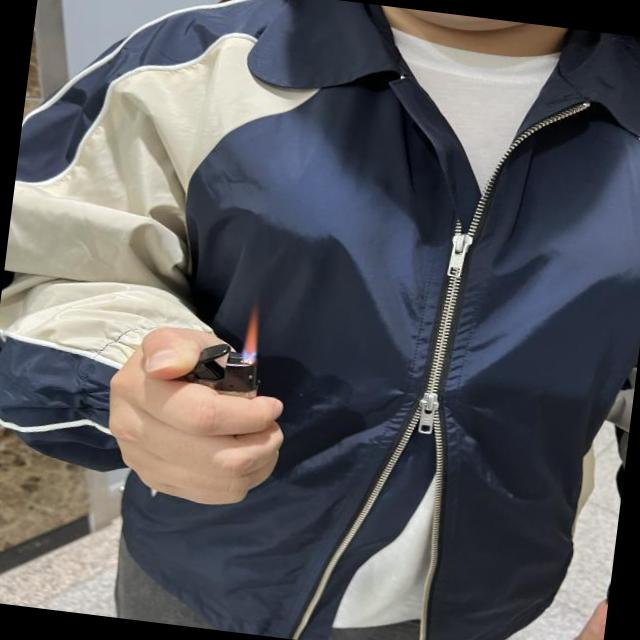Fire: (238, 304, 263, 358)
